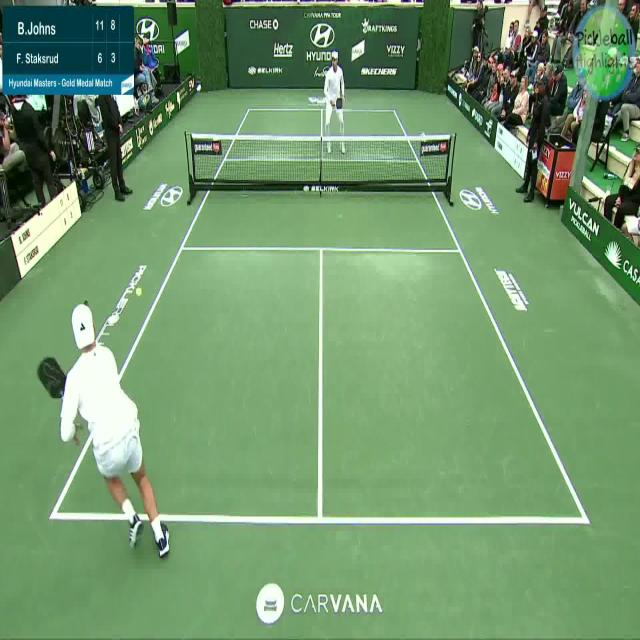ball: (131, 282, 144, 301)
